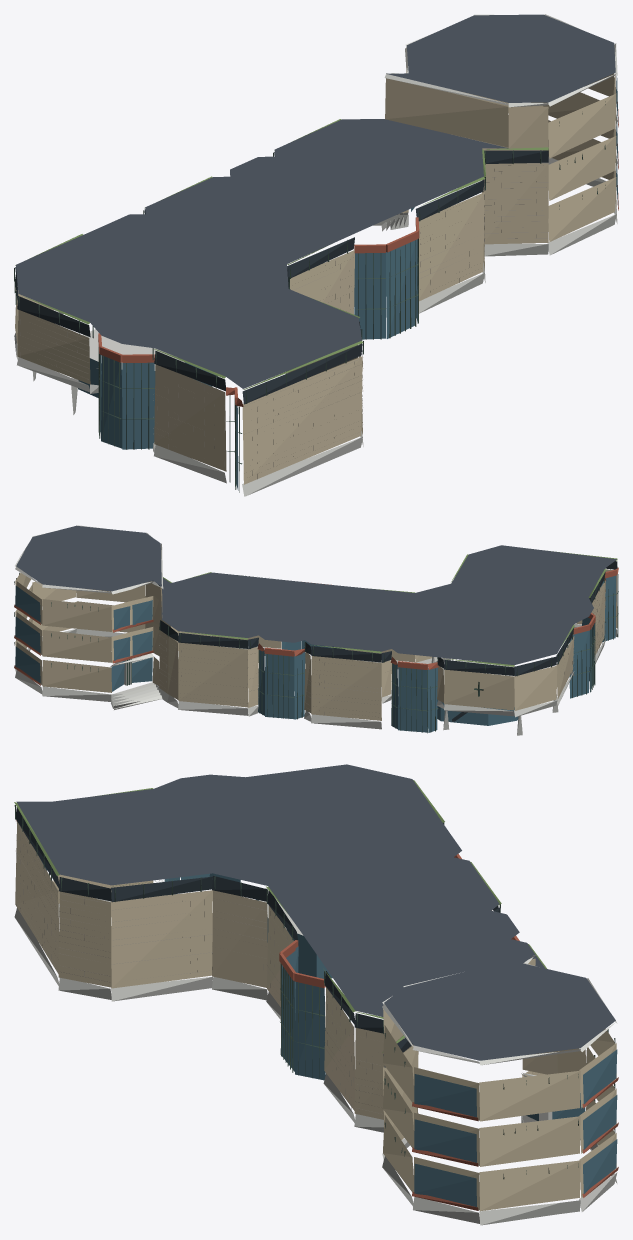
Rendered from afrikahuis.lod1.glb.
The picture shows the model from 3 angles, top to bottom: view 1: azimuth 30°, elevation 25°; view 2: azimuth 150°, elevation 25°; view 3: azimuth 270°, elevation 25°; orthographic projection. The views are drawn at different scales.
Visible parts, largest first — view 1: afrikahuis; view 2: afrikahuis; view 3: afrikahuis.
Boxes of the visible parts, x1,y1,x2,y2 form: afrikahuis: (14, 14, 618, 496); afrikahuis: (14, 525, 618, 735); afrikahuis: (14, 764, 618, 1225).
Bounding box in the file's own units: 59.38 × 13.08 × 43.74.
